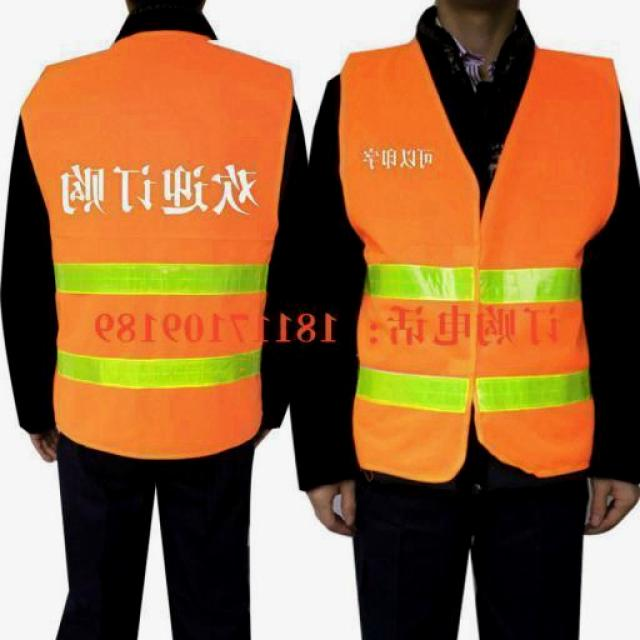hand_noglove: (570, 468, 640, 544), (299, 468, 370, 541)
vest: (338, 43, 618, 484), (36, 33, 303, 459)
